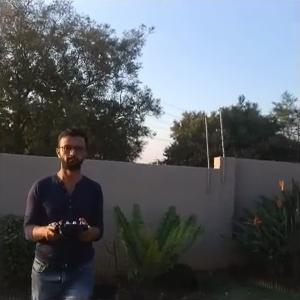follow: (20, 123, 108, 298)
